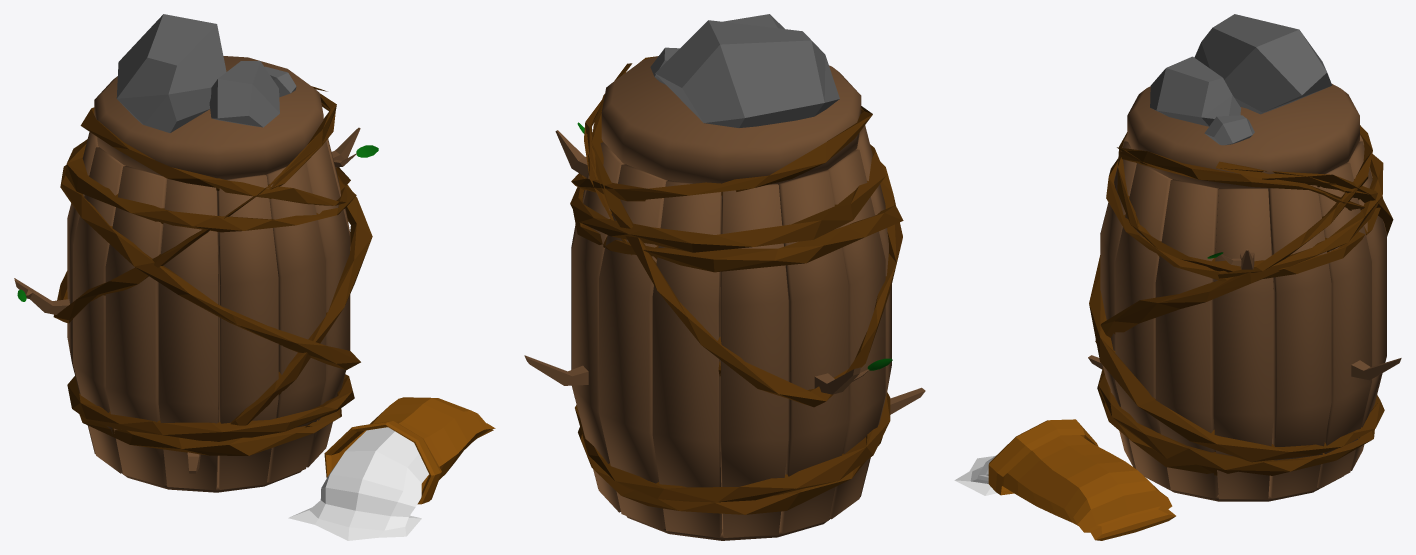
File: brewer.fbx
3 views of the same model, side by side, from view 1: azimuth 30°, elevation 25°; view 2: azimuth 150°, elevation 25°; view 3: azimuth 270°, elevation 25° (orthographic). The views are drawn at different scales.
Visible parts, largest first — view 1: Wine_Weat; view 2: Wine_Weat; view 3: Wine_Weat.
Boxes of the visible parts, x1,y1,x2,y2 form: Wine_Weat: (14, 14, 495, 540); Wine_Weat: (524, 14, 925, 540); Wine_Weat: (954, 14, 1401, 540).
Size of the model in its own units: 362 by 379 by 368.
